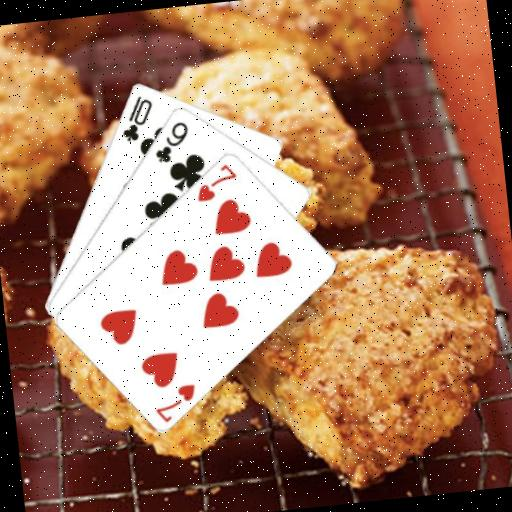10C: (115, 91, 157, 144)
7H: (150, 380, 201, 426), (191, 159, 241, 204)
9C: (148, 117, 193, 166)
